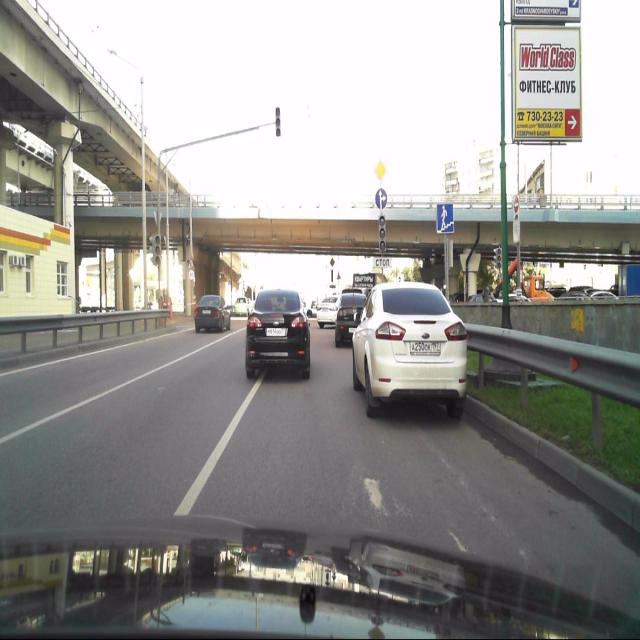road sign: (436, 203, 454, 232), (376, 160, 386, 180)
